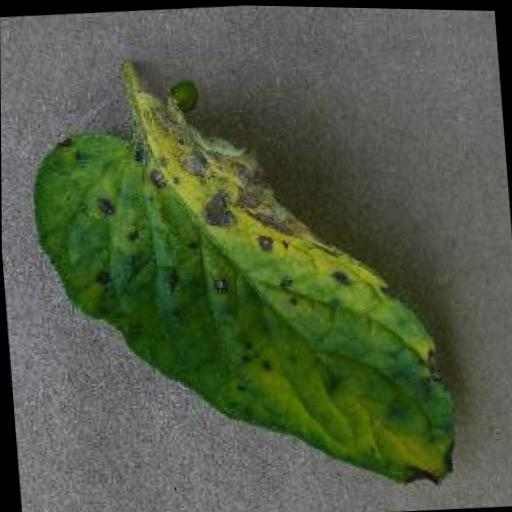Early Blight: (24, 52, 462, 511)
